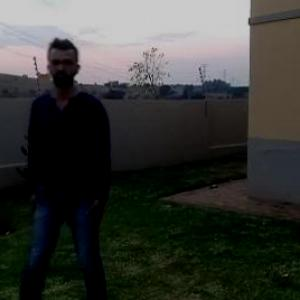follow: (31, 32, 116, 299)
